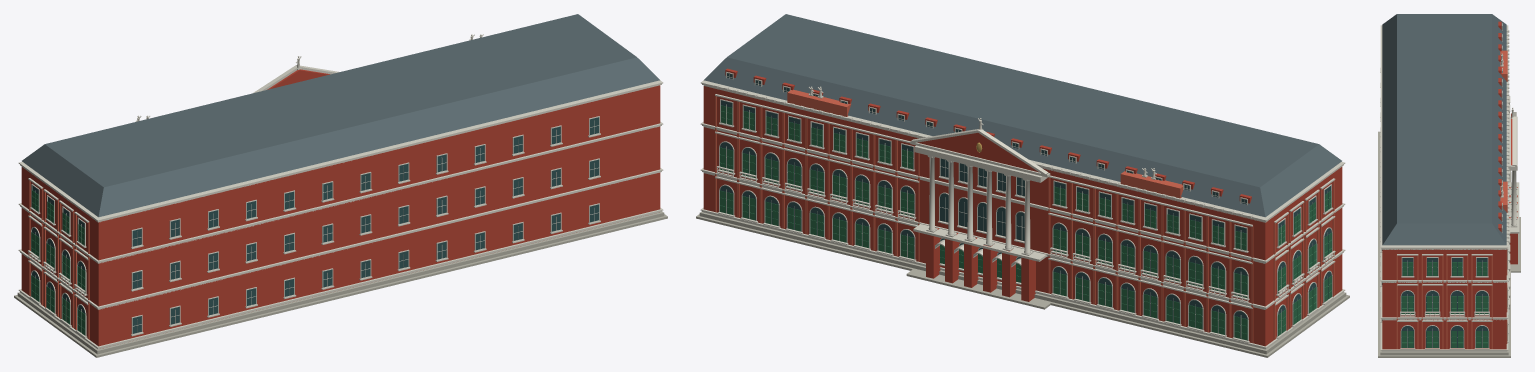
Rendered from WB_writers_building_Roblox.fbx.
3 renders of one model, left to right at view 1: azimuth 30°, elevation 25°; view 2: azimuth 150°, elevation 25°; view 3: azimuth 270°, elevation 25°, orthographic. The views are drawn at different scales.
Parts seen in each view (by area): view 1: WB_MainEnvelope__Red_RBX, WB_MansardRoof__Slate_RBX, WB_CorniceBands__Ivory_RBX, WB_StoneBase__Stone_RBX, WB_Foundation__Stone_RBX, WB_EndBay_-1_3__Ivory_RBX, WB_EndBay_-1_2__Ivory_RBX, WB_EndBay_-1_2__RedLight_RBX, WB_EndBay_-1_1__Ivory_RBX, WB_EndBay_-1_0__Ivory_RBX, WB_EndBay_-1_0__RedLight_RBX, WB_EndBay_-1_0__Green_RBX (+1 smaller); view 2: WB_MansardRoof__Slate_RBX, WB_MainEnvelope__Red_RBX, WB_CorniceBands__Ivory_RBX, WB_CentralPortico__Ivory_RBX, WB_CentralPortico__Red_RBX, WB_StoneBase__Stone_RBX, WB_Foundation__Stone_RBX, WB_CentralPortico__Glass_RBX, WB_DormersAndCornice__Ivory_RBX, WB_DormersAndCornice__Red_RBX, WB_PorticoFooting__Stone_RBX, WB_StreetBay_-1_8__Ivory_RBX (+49 smaller); view 3: WB_MansardRoof__Slate_RBX, WB_MainEnvelope__Red_RBX, WB_CorniceBands__Ivory_RBX, WB_Foundation__Stone_RBX, WB_CentralPortico__Ivory_RBX, WB_StoneBase__Stone_RBX, WB_DormersAndCornice__Ivory_RBX, WB_EndBay_1_0__Green_RBX, WB_EndBay_1_3__Green_RBX, WB_EndBay_1_1__Green_RBX, WB_EndBay_1_0__Ivory_RBX, WB_EndBay_1_3__Ivory_RBX (+17 smaller).
Boxes of the visible parts, x1,y1,x2,y2 form: WB_MainEnvelope__Red_RBX: [21, 85, 660, 348]; WB_MansardRoof__Slate_RBX: [22, 14, 659, 217]; WB_CorniceBands__Ivory_RBX: [18, 80, 663, 349]; WB_StoneBase__Stone_RBX: [17, 211, 664, 354]; WB_Foundation__Stone_RBX: [14, 214, 667, 357]; WB_EndBay_-1_3__Ivory_RBX: [74, 212, 89, 338]; WB_EndBay_-1_2__Ivory_RBX: [58, 200, 73, 326]; WB_EndBay_-1_2__RedLight_RBX: [59, 203, 74, 327]; WB_EndBay_-1_1__Ivory_RBX: [43, 189, 58, 315]; WB_EndBay_-1_0__Ivory_RBX: [27, 178, 43, 304]; WB_EndBay_-1_0__RedLight_RBX: [29, 180, 43, 305]; WB_EndBay_-1_0__Green_RBX: [31, 190, 39, 301]; WB_MansardRoof__Slate_RBX: [704, 14, 1341, 217]; WB_MainEnvelope__Red_RBX: [703, 86, 1342, 346]; WB_CorniceBands__Ivory_RBX: [700, 80, 1345, 349]; WB_CentralPortico__Ivory_RBX: [910, 118, 1050, 284]; WB_CentralPortico__Red_RBX: [917, 133, 1038, 301]; WB_StoneBase__Stone_RBX: [699, 211, 1346, 354]; WB_Foundation__Stone_RBX: [696, 214, 1349, 357]; WB_CentralPortico__Glass_RBX: [940, 158, 1024, 259]; WB_DormersAndCornice__Ivory_RBX: [714, 72, 1252, 217]; WB_DormersAndCornice__Red_RBX: [725, 68, 1251, 203]; WB_PorticoFooting__Stone_RBX: [906, 268, 1051, 309]; WB_StreetBay_-1_8__Ivory_RBX: [1229, 219, 1252, 342]; WB_MansardRoof__Slate_RBX: [1382, 14, 1506, 245]; WB_MainEnvelope__Red_RBX: [1382, 249, 1506, 349]; WB_CorniceBands__Ivory_RBX: [1380, 25, 1508, 351]; WB_Foundation__Stone_RBX: [1378, 131, 1510, 357]; WB_CentralPortico__Ivory_RBX: [1508, 107, 1519, 233]; WB_StoneBase__Stone_RBX: [1380, 137, 1508, 355]; WB_DormersAndCornice__Ivory_RBX: [1502, 23, 1509, 242]; WB_EndBay_1_0__Green_RBX: [1476, 262, 1488, 347]; WB_EndBay_1_3__Green_RBX: [1401, 262, 1413, 347]; WB_EndBay_1_1__Green_RBX: [1451, 262, 1463, 347]; WB_EndBay_1_0__Ivory_RBX: [1471, 254, 1492, 349]; WB_EndBay_1_3__Ivory_RBX: [1397, 254, 1418, 349].
Bounding box in the file's own units: 240 × 68.73 × 64.5.
